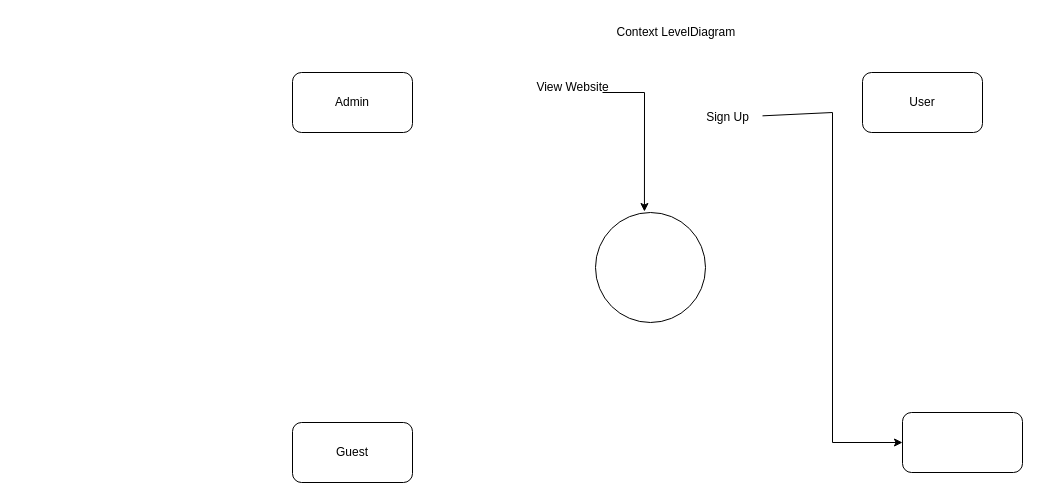
Image size: 1040x500. Some labels were removed from this diagram. Here are the shapes that lost their labels. From the top down, the centre of each, then its label:
the point at 650,267: level 0 MyBikeRent
the point at 962,442: Employee
